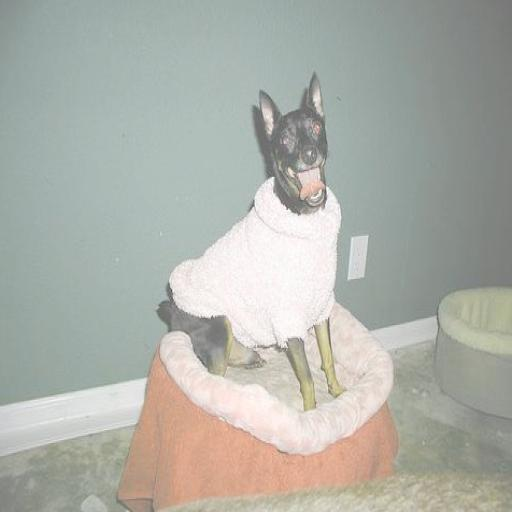dog_face: (248, 68, 335, 217)
